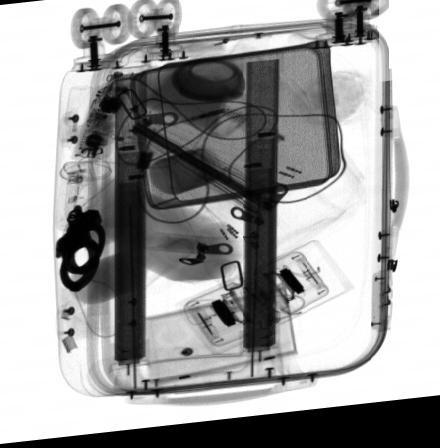HandCuffs: (55, 203, 109, 295)
